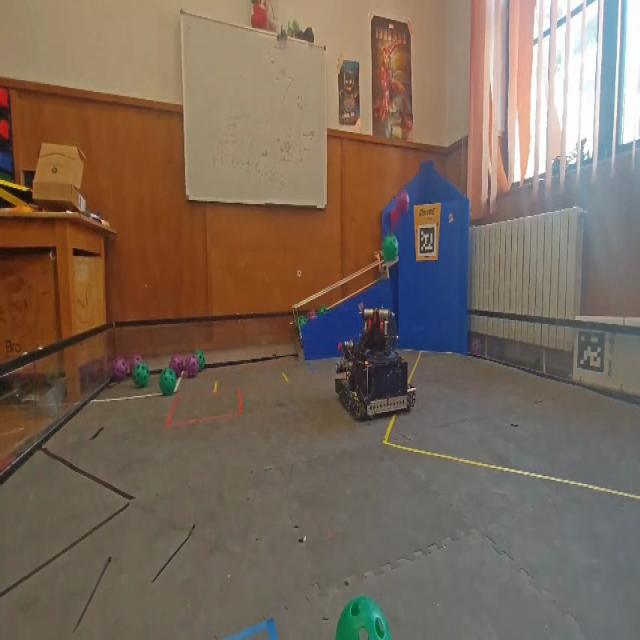artifact_green: (335, 596, 391, 639), (159, 368, 176, 395), (383, 235, 398, 262), (133, 362, 149, 387), (195, 351, 206, 371), (307, 310, 317, 321), (299, 316, 307, 327), (318, 306, 327, 315), (294, 318, 299, 329)
artifact_purple: (112, 356, 127, 382), (395, 191, 409, 215), (185, 356, 199, 378), (170, 355, 184, 377), (129, 355, 143, 374), (307, 310, 317, 321), (126, 360, 131, 375)
